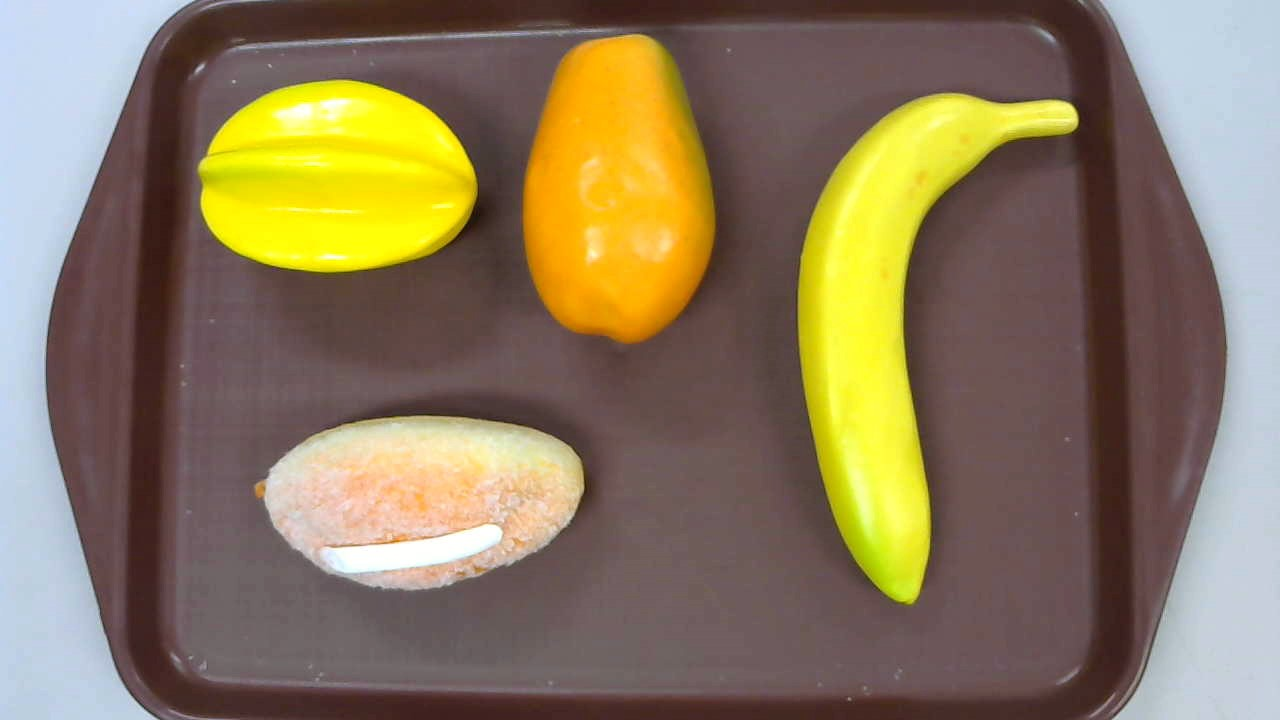banana: (797, 90, 1079, 605)
coconut: (253, 414, 584, 591)
papya: (522, 34, 715, 343)
star fruit: (197, 79, 478, 273)
